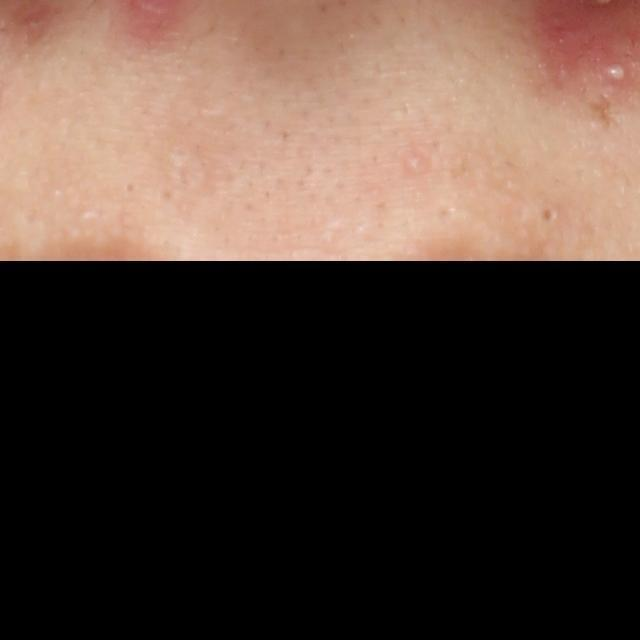comedo: (537, 204, 565, 228), (403, 153, 425, 176)
pustule: (600, 59, 632, 85)
